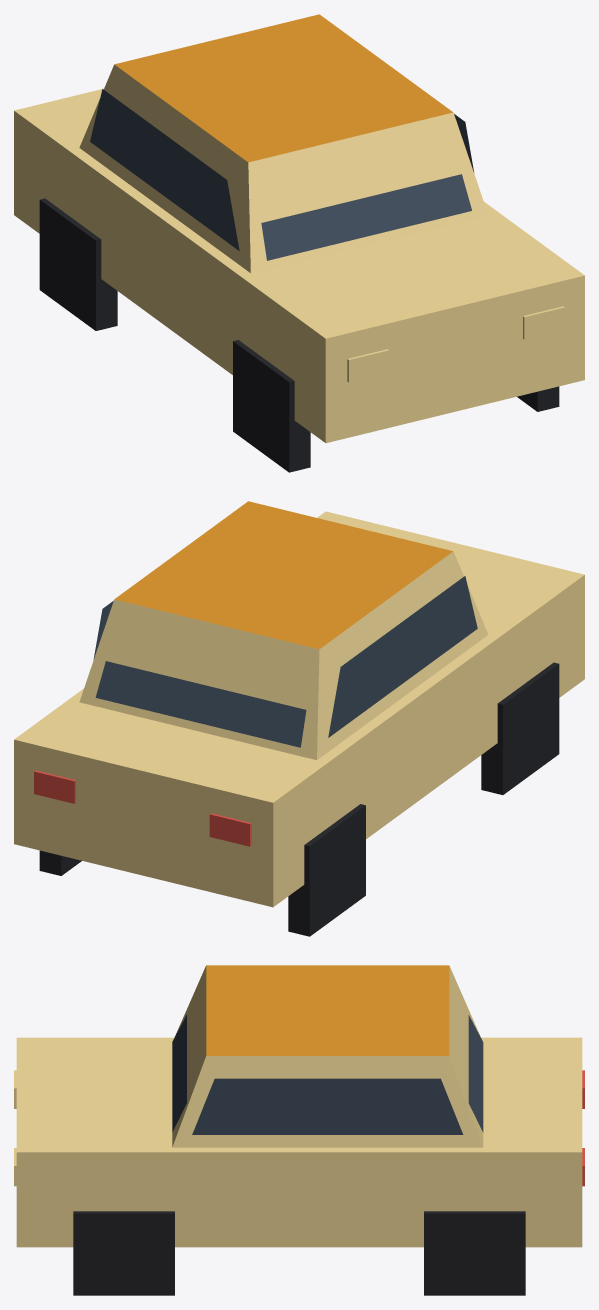
The model's file is P_ParkedCarYellow.fbx.
3 views of the same model, one above another, from view 1: azimuth 30°, elevation 25°; view 2: azimuth 150°, elevation 25°; view 3: azimuth 270°, elevation 25° (orthographic). The views are drawn at different scales.
Visible parts, largest first — view 1: P_ParkedCarYellow; view 2: P_ParkedCarYellow; view 3: P_ParkedCarYellow.
Boxes of the visible parts, bbox=[...] form: P_ParkedCarYellow: bbox=[14, 14, 584, 472]; P_ParkedCarYellow: bbox=[14, 501, 584, 936]; P_ParkedCarYellow: bbox=[14, 965, 584, 1295].
Size of the model in its own units: 1 by 0.88 by 2.02.
